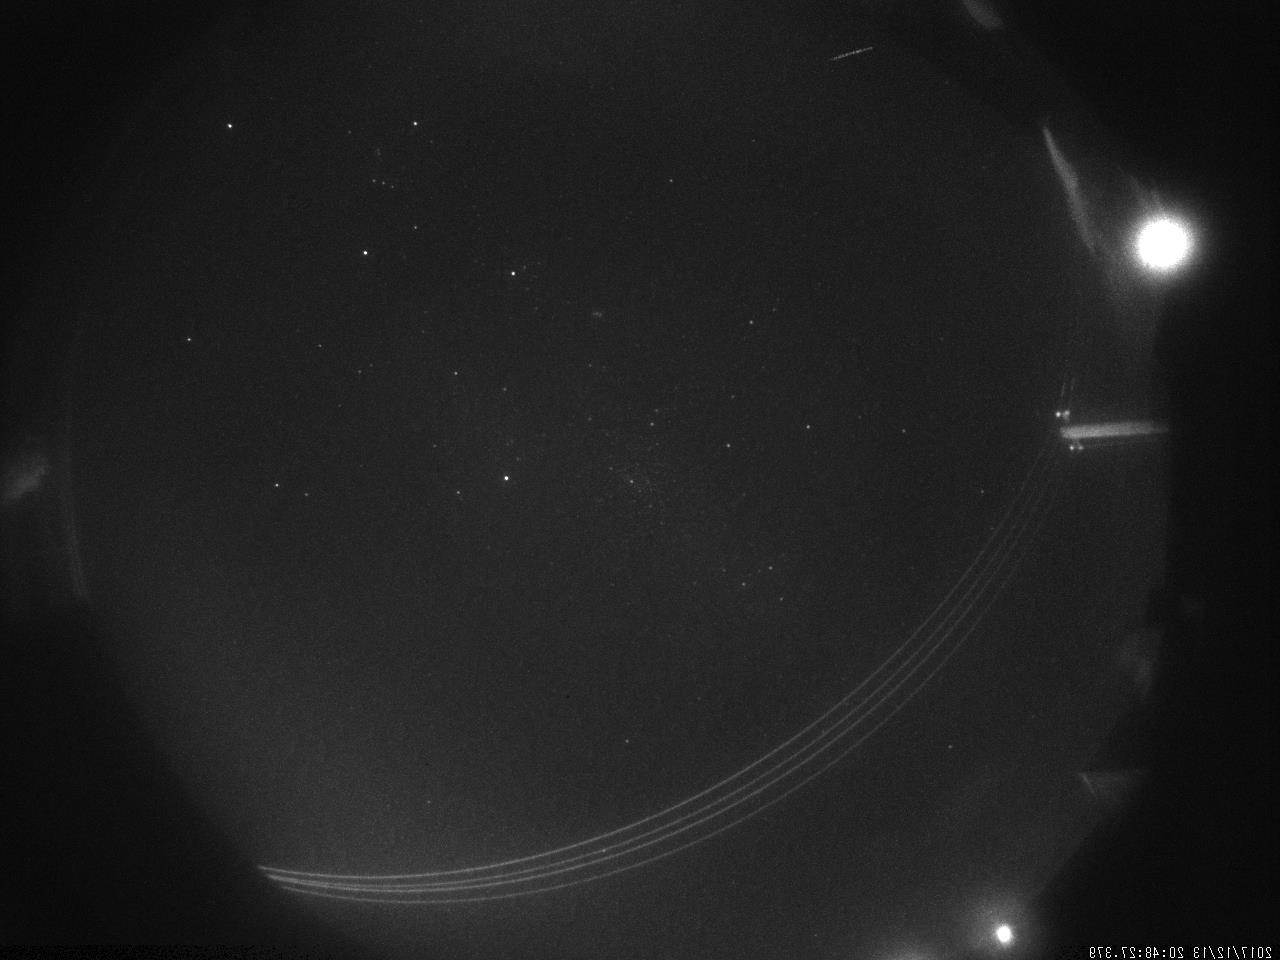meteor: (807, 30, 880, 80)
